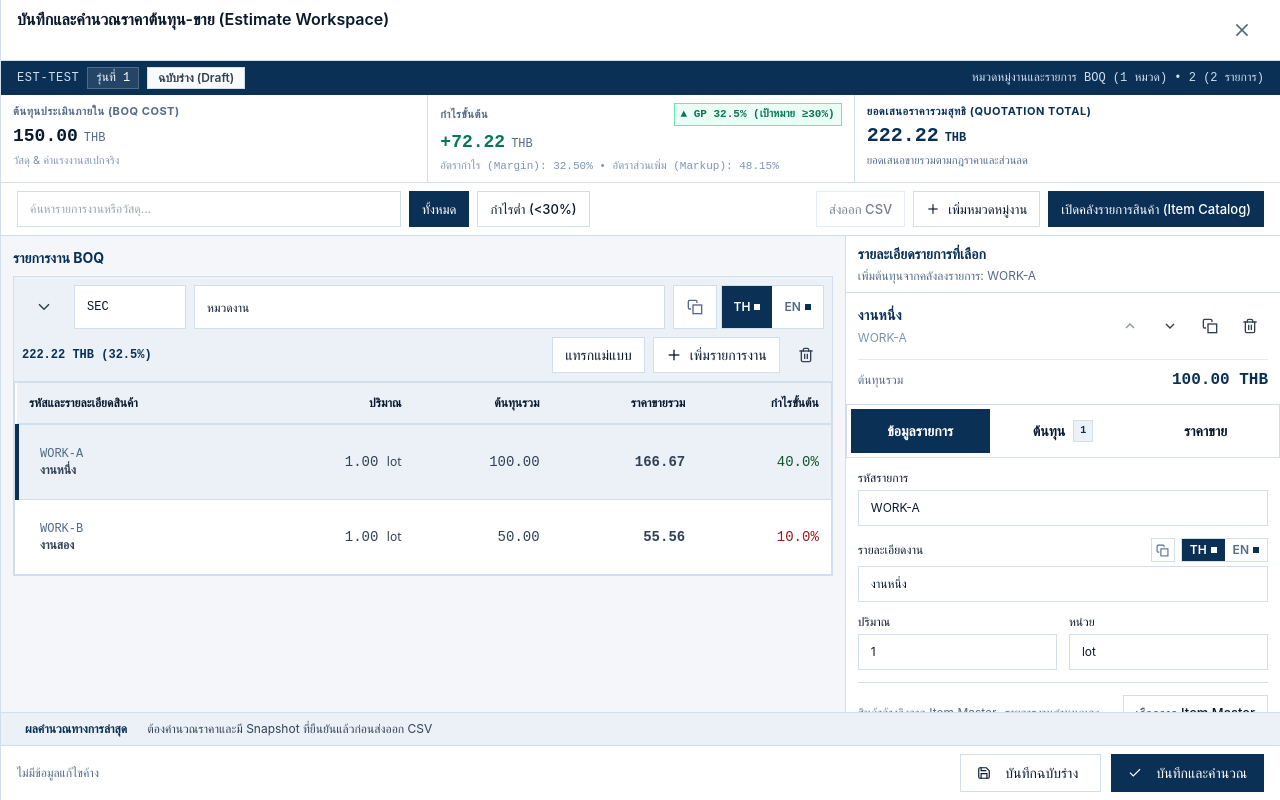
it: workspace BOQ and inspector regression › keeps quick cost presets and selects a remaining item after confirmed deletion
The width and height of the screenshot is (1280, 800).
Click the button with aria-label "แก้ไขรายการ WORK-B": (141, 537) [31,512,252,562]
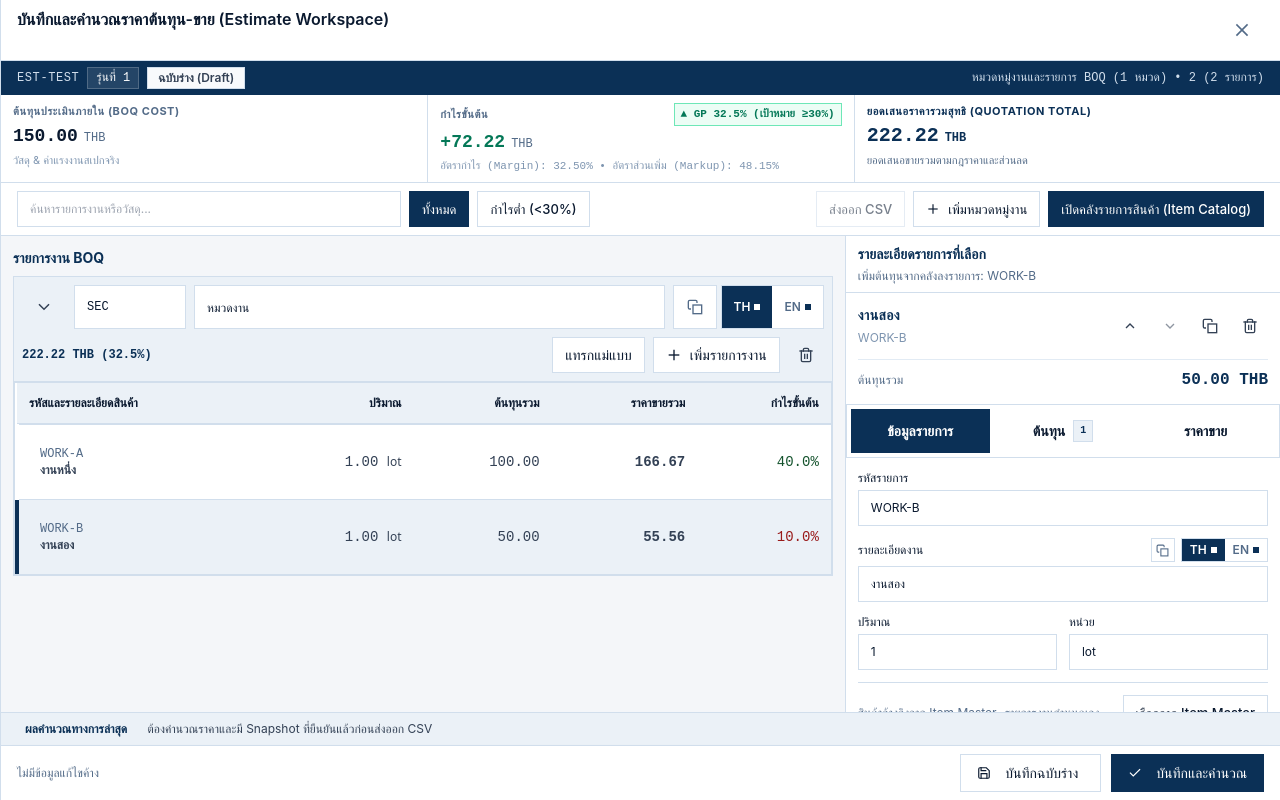
Click the tab "ต้นทุน 1": (1063, 431) [994,409,1132,453]
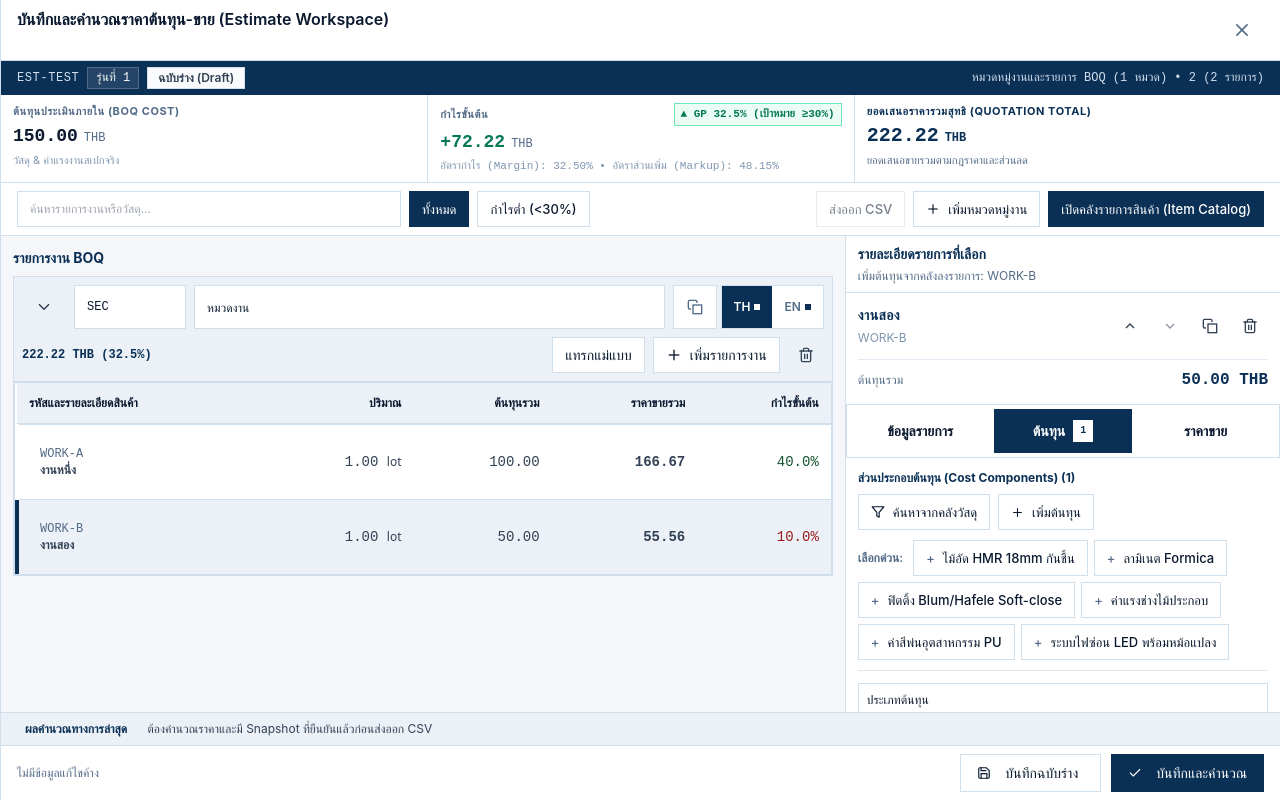
Click the button "+ ไม้อัด HMR 18mm กันชื้น": (1000, 558) [913,540,1088,576]
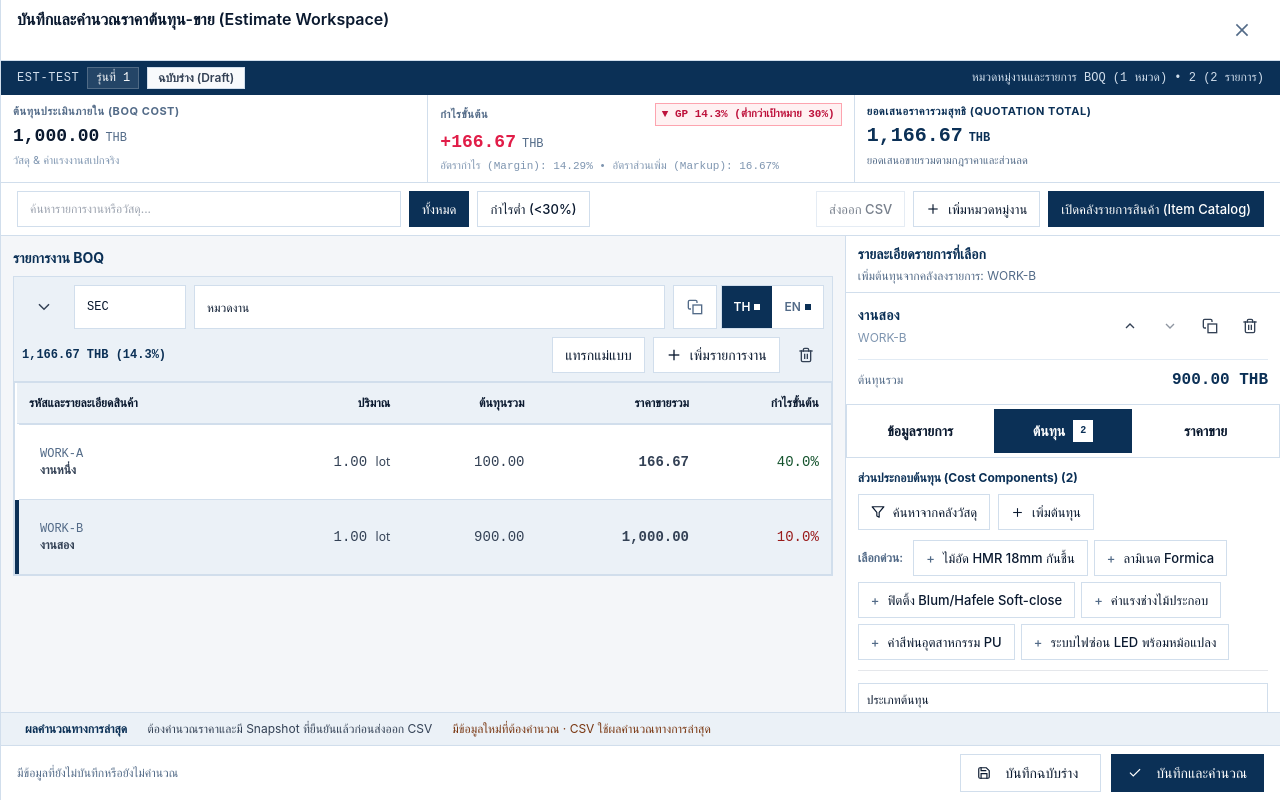
Click the button named "ลบรายการ": (1250, 326) [1232,308,1268,344]
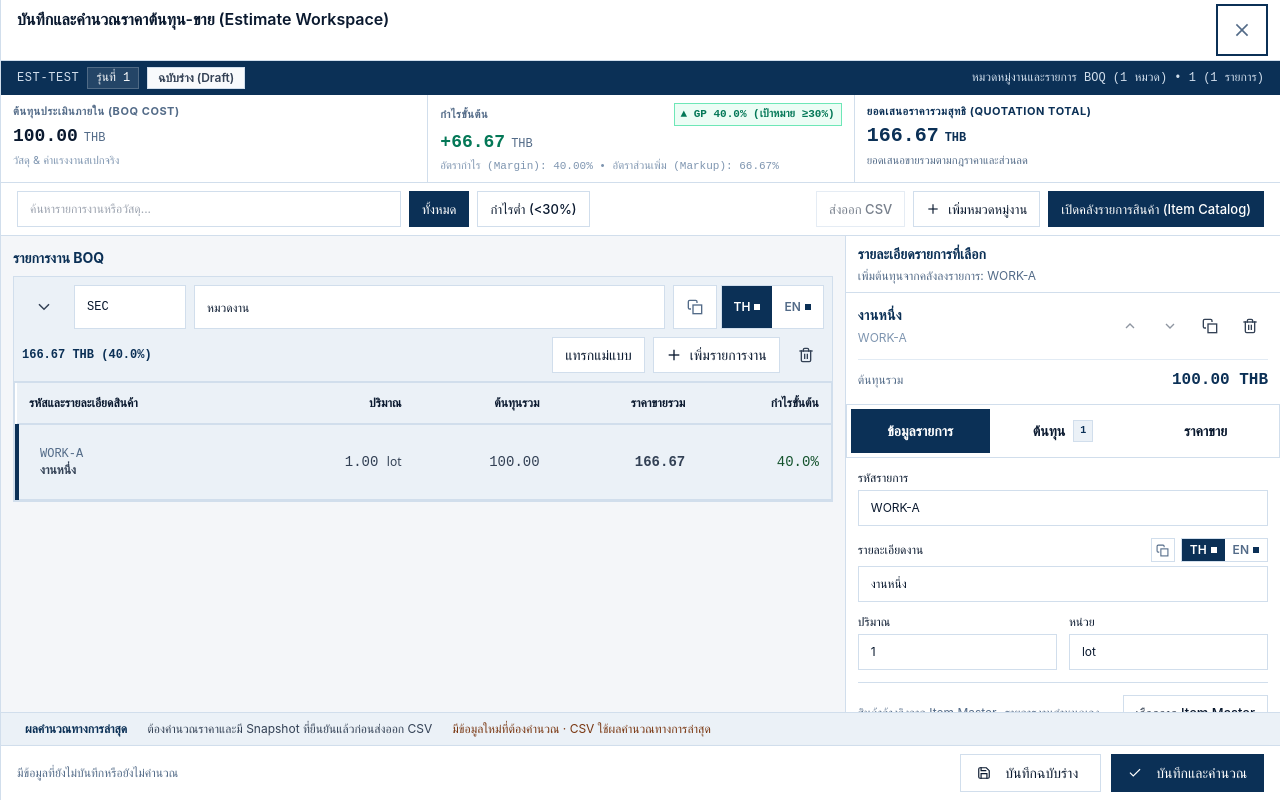
Result: the field labelled "รายละเอียดงาน" holds "งานหนึ่ง" at [858,566,1268,602]
